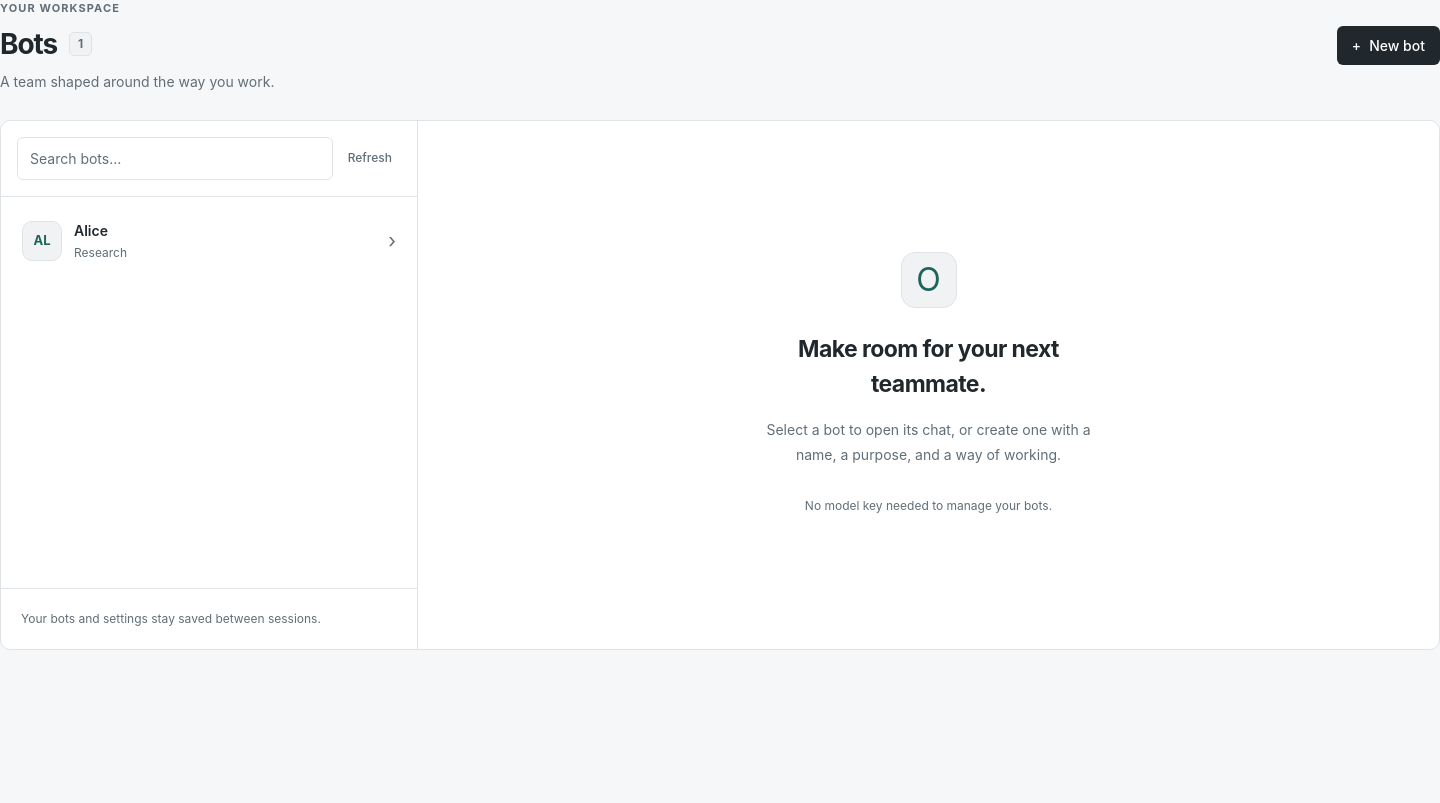
bot management › navigates from chat to the profile and settings
Click the button "AL Alice Research ›".
click(42, 240)  # box top-left (9, 204), bottom-right (409, 276)
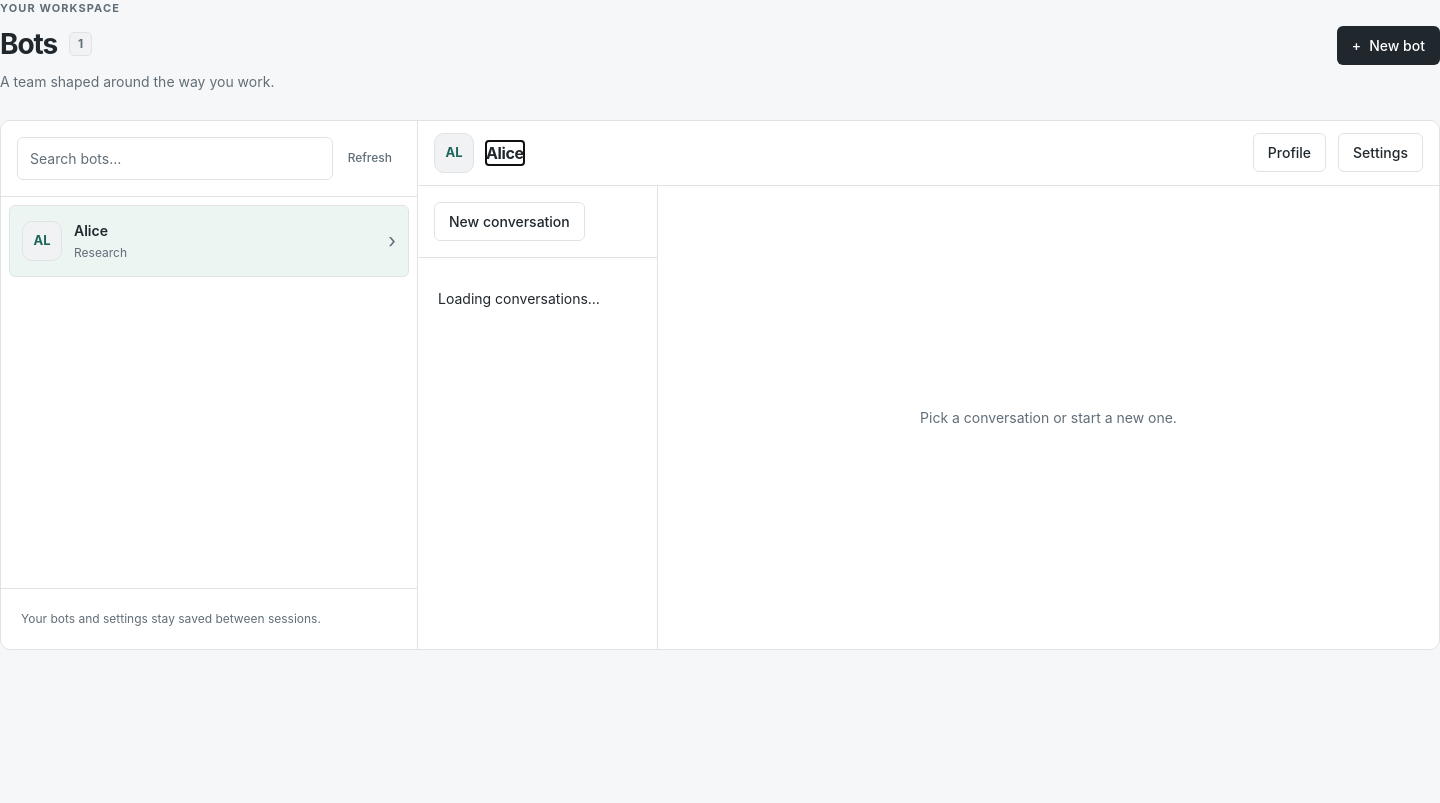
Click the button "Profile".
click(1290, 152)  # box top-left (1253, 133), bottom-right (1326, 172)
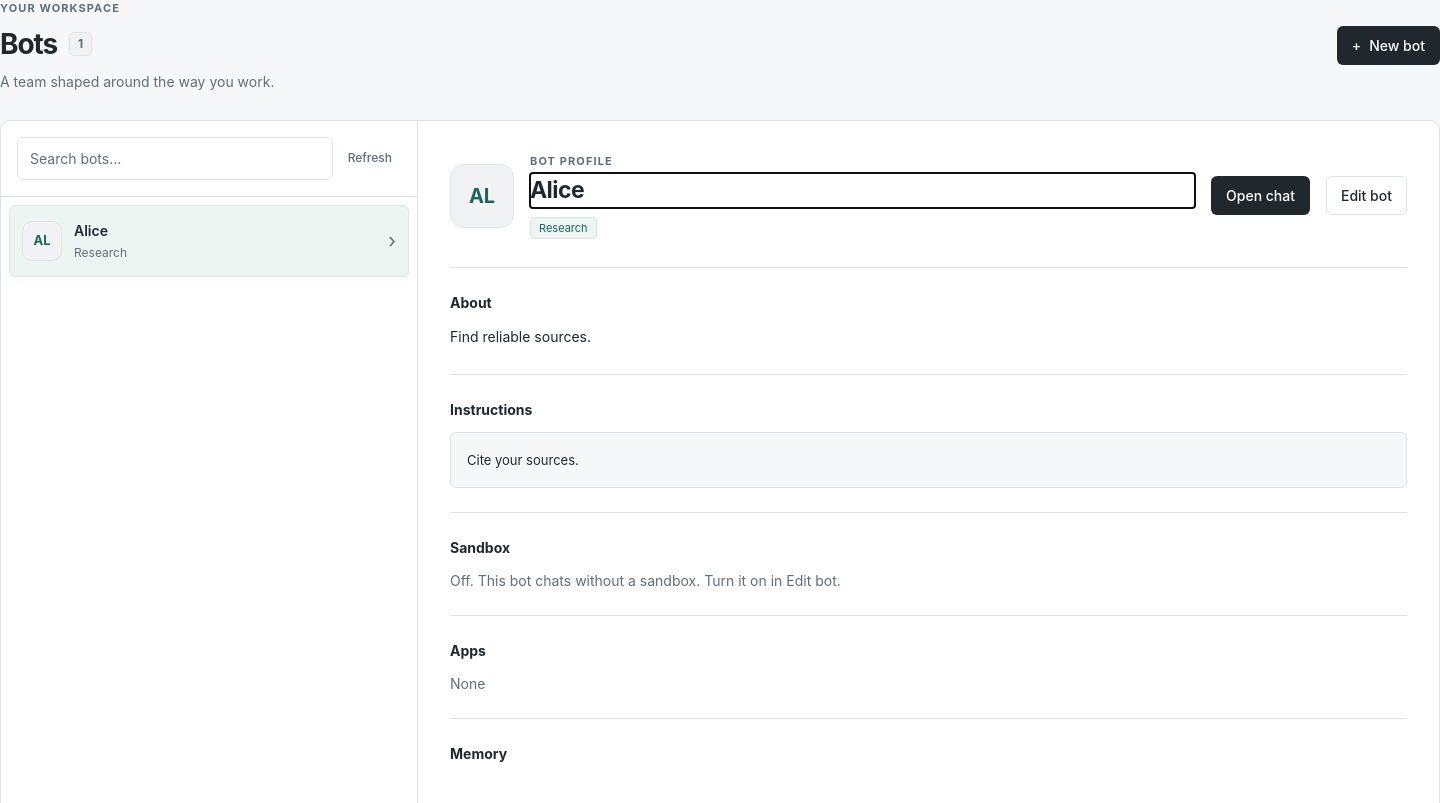
Result: the text "Find reliable sources." is shown at top-left (450, 328), bottom-right (591, 345)
Result: the text "Cite your sources." is shown at top-left (450, 432), bottom-right (1407, 488)
Result: the heading "Memory" is shown at top-left (450, 745), bottom-right (507, 762)
Click the button "Open chat".
click(1260, 196)  # box top-left (1211, 176), bottom-right (1310, 215)
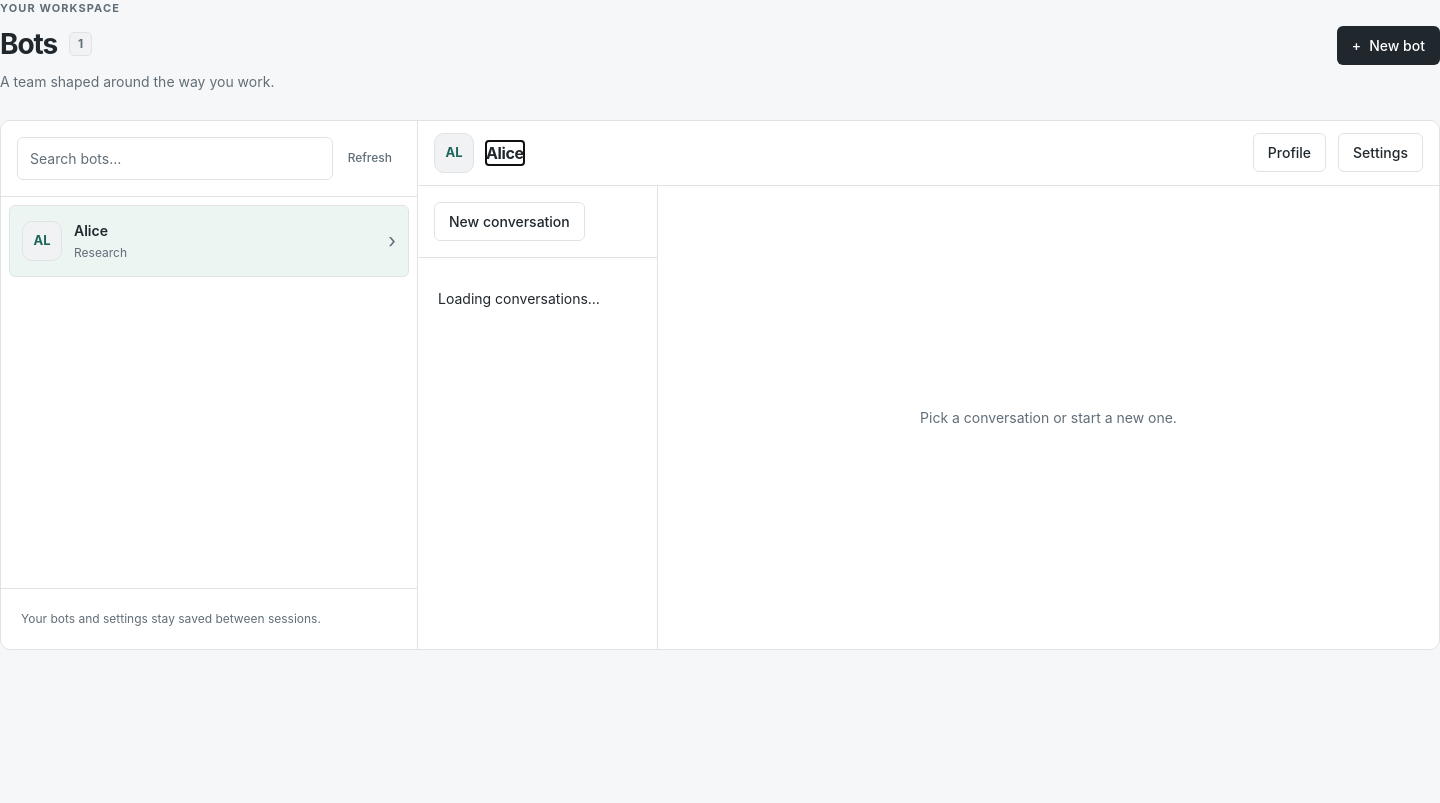
Click the button "Settings".
click(1381, 152)  # box top-left (1338, 133), bottom-right (1423, 172)
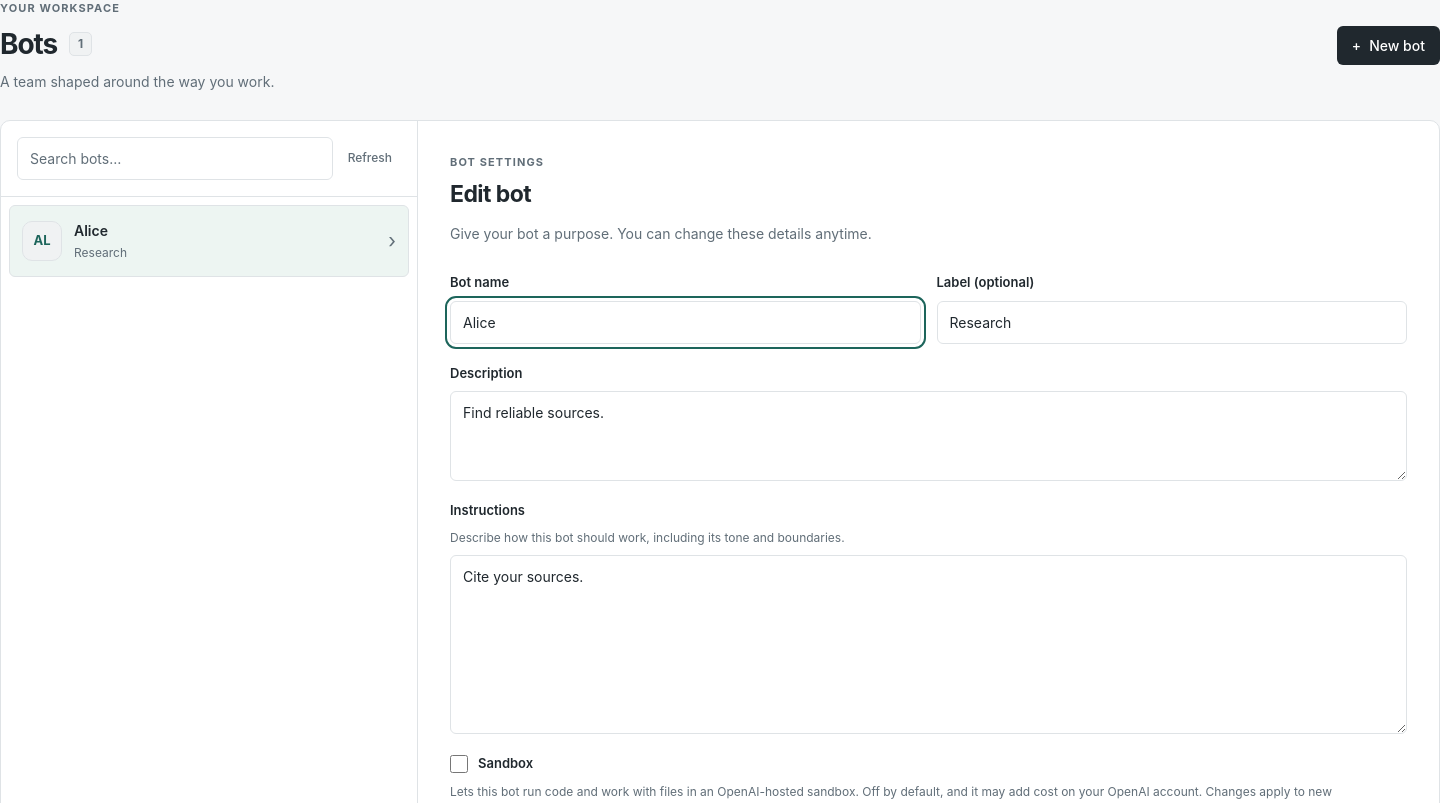
Result: the heading "Edit bot" is shown at top-left (450, 180), bottom-right (531, 208)
